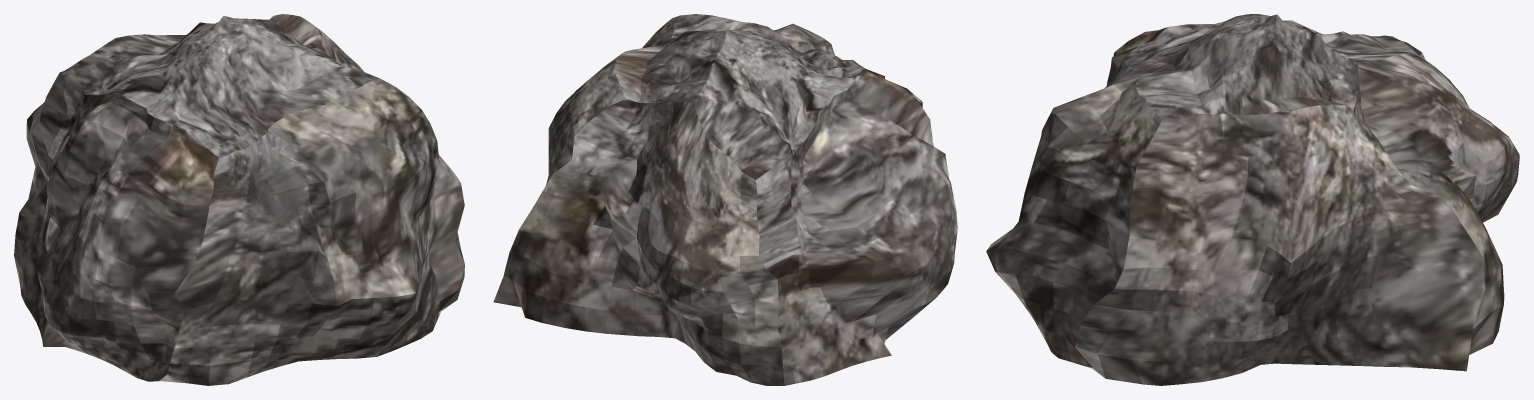
The model's file is jungle-rock-b.lod0.glb.
The picture shows the model from 3 angles, left to right: view 1: azimuth 30°, elevation 25°; view 2: azimuth 150°, elevation 25°; view 3: azimuth 270°, elevation 25°; orthographic projection. The views are drawn at different scales.
Visible parts, largest first — view 1: Rock 3_0; view 2: Rock 3_0; view 3: Rock 3_0.
Boxes of the visible parts, x1,y1,x2,y2 form: Rock 3_0: (14, 14, 464, 385); Rock 3_0: (493, 14, 957, 385); Rock 3_0: (986, 14, 1519, 385).
Size of the model in its own units: 2.45 by 1.82 by 2.8.
Materials: 1 (1 with a texture image).
